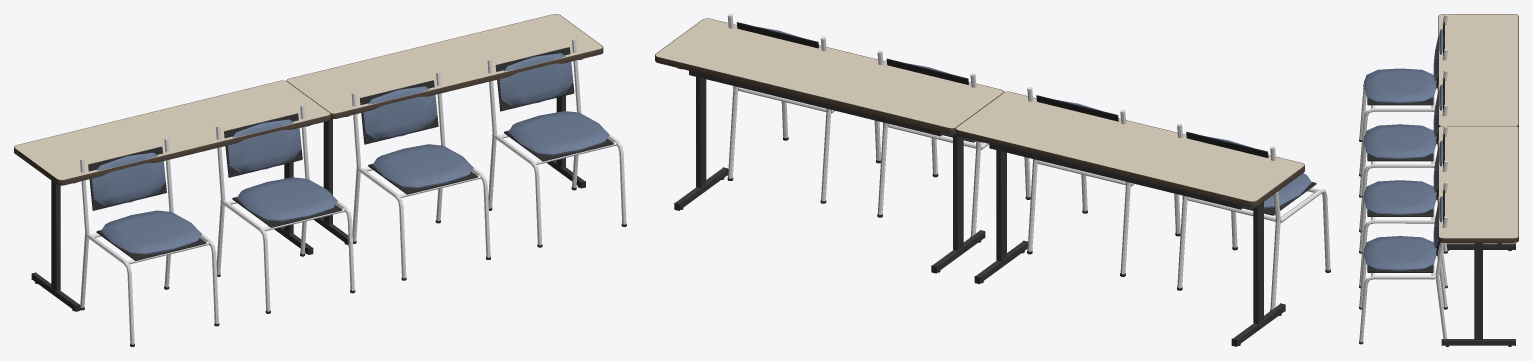
File: Kit_TrainingTable_Row2_Tucked.fbx
3 views of the same model, side by side, from view 1: azimuth 30°, elevation 25°; view 2: azimuth 150°, elevation 25°; view 3: azimuth 270°, elevation 25° (orthographic). The views are drawn at different scales.
Parts seen in each view (by area): view 1: Kit_TrainingTable_Row2_Tucked_LOD0; view 2: Kit_TrainingTable_Row2_Tucked_LOD0; view 3: Kit_TrainingTable_Row2_Tucked_LOD0.
Part boxes in pixels (<box>): Kit_TrainingTable_Row2_Tucked_LOD0: <box>14,14,626,346</box>; Kit_TrainingTable_Row2_Tucked_LOD0: <box>655,14,1330,346</box>; Kit_TrainingTable_Row2_Tucked_LOD0: <box>1359,14,1518,346</box>.
Size of what is drawn, in the model's own units: 3.05 by 0.8015 by 0.92.
